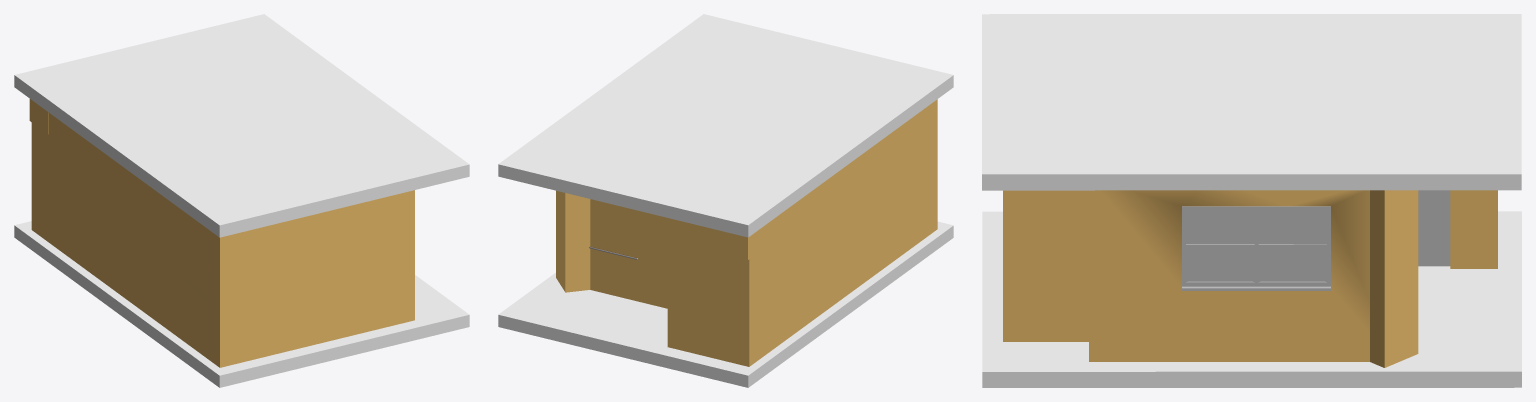
Rendered from FloorPlan13_physics.fbx.
3 renders of one model, left to right at view 1: azimuth 30°, elevation 25°; view 2: azimuth 150°, elevation 25°; view 3: azimuth 270°, elevation 25°, orthographic. The views are drawn at different scales.
Parts seen in each view (by area): view 1: Cube.686, Cube.650, Cube.721; view 2: Cube.686, Cube.650, Cube.721; view 3: Cube.686, Cube.650, Cube.721, WindowPane, WindowFrame, Cube.723.
Boxes of the visible parts, x1=… form: Cube.686: x1=14, y1=14, x2=469, y2=237; Cube.650: x1=29, y1=99, x2=414, y2=367; Cube.721: x1=14, y1=221, x2=469, y2=387; Cube.686: x1=498, y1=14, x2=953, y2=237; Cube.650: x1=556, y1=99, x2=937, y2=366; Cube.721: x1=498, y1=221, x2=953, y2=387; Cube.686: x1=982, y1=14, x2=1521, y2=190; Cube.650: x1=1003, y1=190, x2=1497, y2=367; Cube.721: x1=982, y1=211, x2=1521, y2=387; WindowPane: x1=1187, y1=211, x2=1325, y2=280; WindowFrame: x1=1182, y1=206, x2=1330, y2=290; Cube.723: x1=1418, y1=190, x2=1446, y2=266.
Size of the model in its own units: 551 by 343 by 784.
